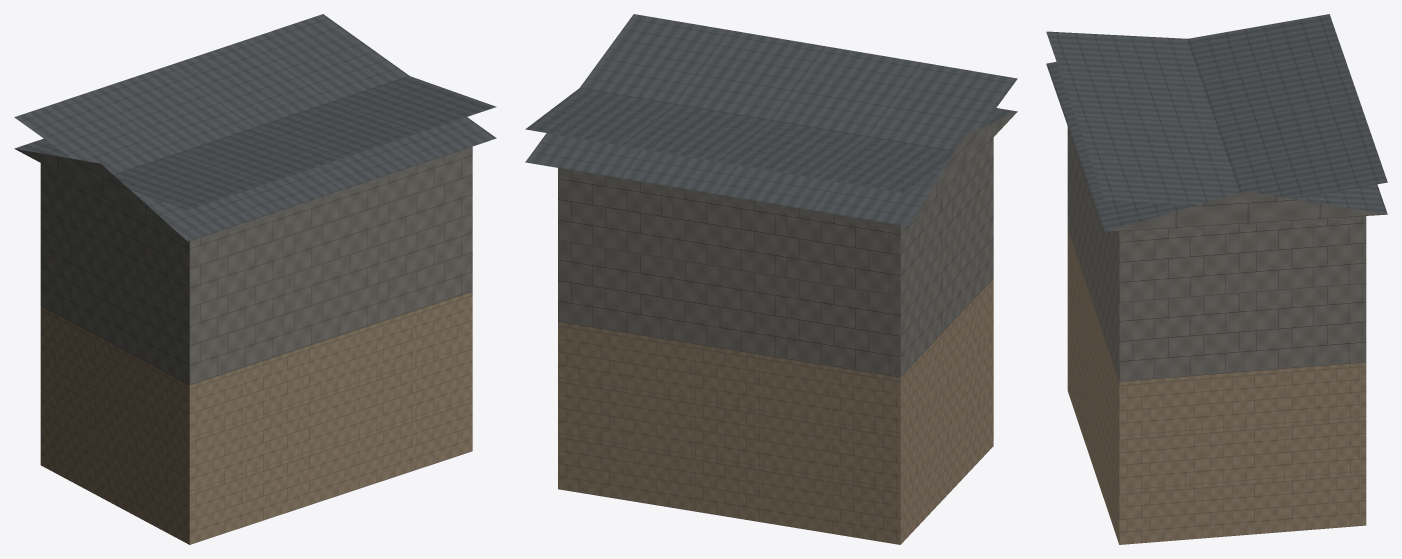
File: bld_c-2_-5_565.gltf
3 renders of one model, left to right at view 1: azimuth 30°, elevation 25°; view 2: azimuth 150°, elevation 25°; view 3: azimuth 270°, elevation 25°, orthographic. The views are drawn at different scales.
Visible parts, largest first — view 1: bld_c-2_-5_565; view 2: bld_c-2_-5_565; view 3: bld_c-2_-5_565.
Boxes of the visible parts, bbox=[...] form: bld_c-2_-5_565: bbox=[14, 14, 496, 544]; bld_c-2_-5_565: bbox=[525, 14, 1017, 544]; bld_c-2_-5_565: bbox=[1046, 14, 1387, 544].
Size of the model in its own units: 12.41 by 11 by 9.64.
Materials: 4 (4 with a texture image).
